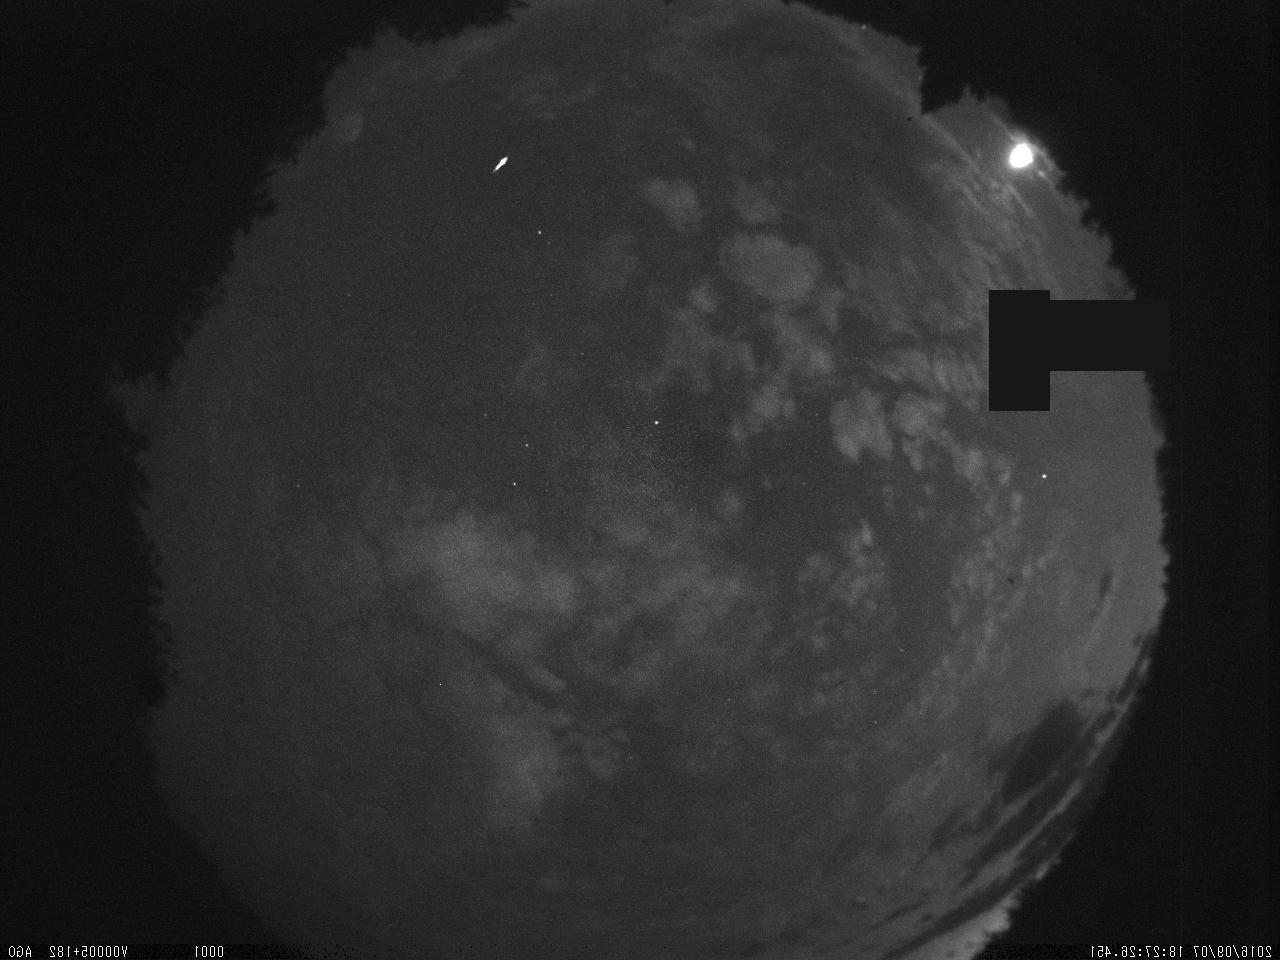meteor: (484, 148, 517, 183)
